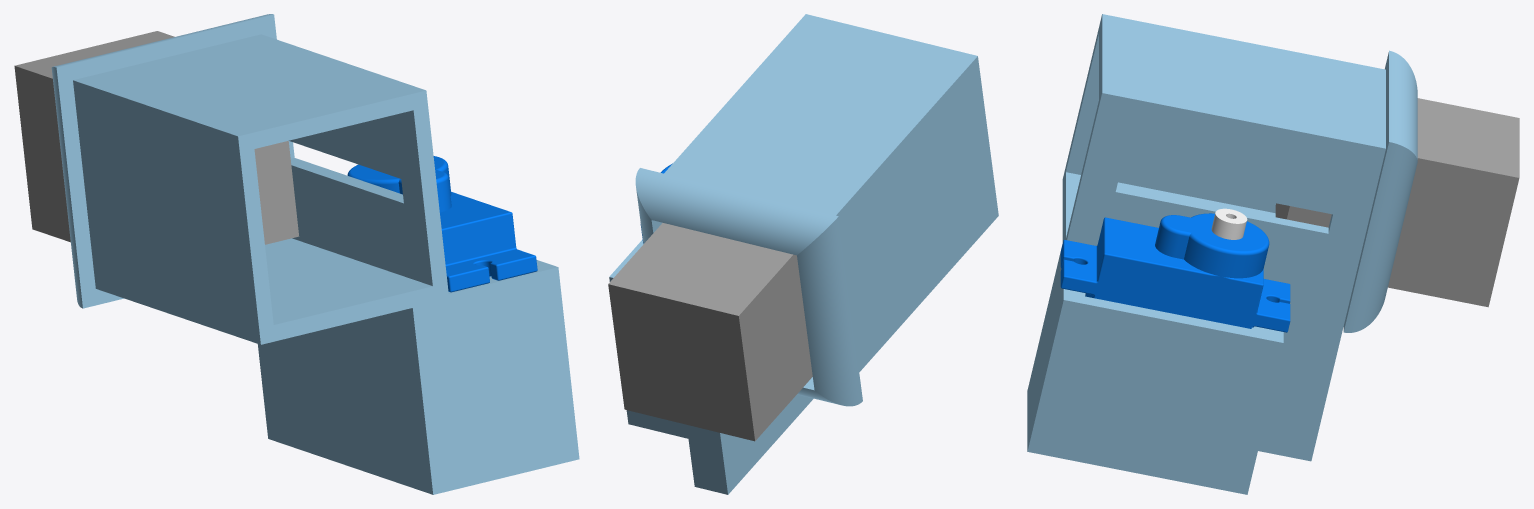
File: barriere.obj
3 views of the same model, side by side, from view 1: azimuth 30°, elevation 25°; view 2: azimuth 150°, elevation 25°; view 3: azimuth 270°, elevation 25° (orthographic). The views are drawn at different scales.
Parts seen in each view (by area): view 1: mesh19, mesh12, mesh10, mesh13, mesh24, mesh18, mesh14, mesh30, mesh33, mesh51, mesh29, mesh17 (+3 smaller); view 2: mesh13, mesh12, mesh34, mesh29, mesh20, mesh30, mesh17, mesh10, mesh9, mesh6; view 3: mesh23, mesh7, mesh13, mesh32, mesh147, mesh29, mesh16, mesh22, mesh19, mesh20, mesh47, mesh5 (+10 smaller).
Boxes of the visible parts, <box> form: mesh19: <box>238,90,579,494</box>; mesh12: <box>73,80,260,344</box>; mesh10: <box>257,308,433,494</box>; mesh13: <box>73,34,425,136</box>; mesh24: <box>289,110,432,285</box>; mesh18: <box>265,238,432,324</box>; mesh14: <box>56,14,276,308</box>; mesh30: <box>14,66,70,242</box>; mesh33: <box>254,141,299,244</box>; mesh51: <box>442,214,515,264</box>; mesh29: <box>15,31,174,78</box>; mesh17: <box>51,67,82,308</box>; mesh13: <box>664,14,977,215</box>; mesh12: <box>836,56,998,371</box>; mesh34: <box>608,284,754,441</box>; mesh29: <box>608,223,792,315</box>; mesh20: <box>635,168,838,255</box>; mesh30: <box>739,254,812,440</box>; mesh17: <box>797,216,862,406</box>; mesh10: <box>720,394,813,494</box>; mesh9: <box>686,425,727,494</box>; mesh6: <box>609,277,688,438</box>; mesh23: <box>1067,93,1385,461</box>; mesh7: <box>1027,300,1283,494</box>; mesh13: <box>1102,14,1385,148</box>; mesh32: <box>1287,158,1519,307</box>; mesh147: <box>1062,255,1288,331</box>; mesh29: <box>1417,98,1519,177</box>; mesh16: <box>1343,142,1417,332</box>; mesh22: <box>1066,34,1275,213</box>; mesh19: <box>1027,14,1102,451</box>; mesh20: <box>1389,50,1417,159</box>; mesh47: <box>1105,217,1209,273</box>; mesh5: <box>1063,289,1283,342</box>.
Size of the model in its own units: 0.0428 by 0.056 by 0.0678.
